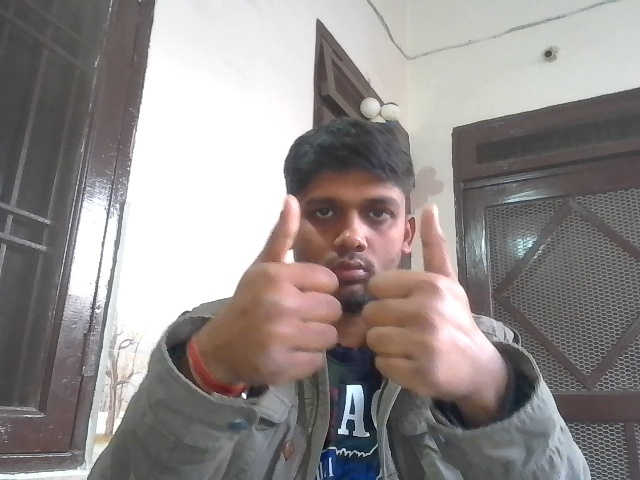Excellent: (213, 191, 484, 400)
